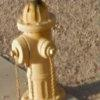Hydrant: (8, 2, 68, 100)
